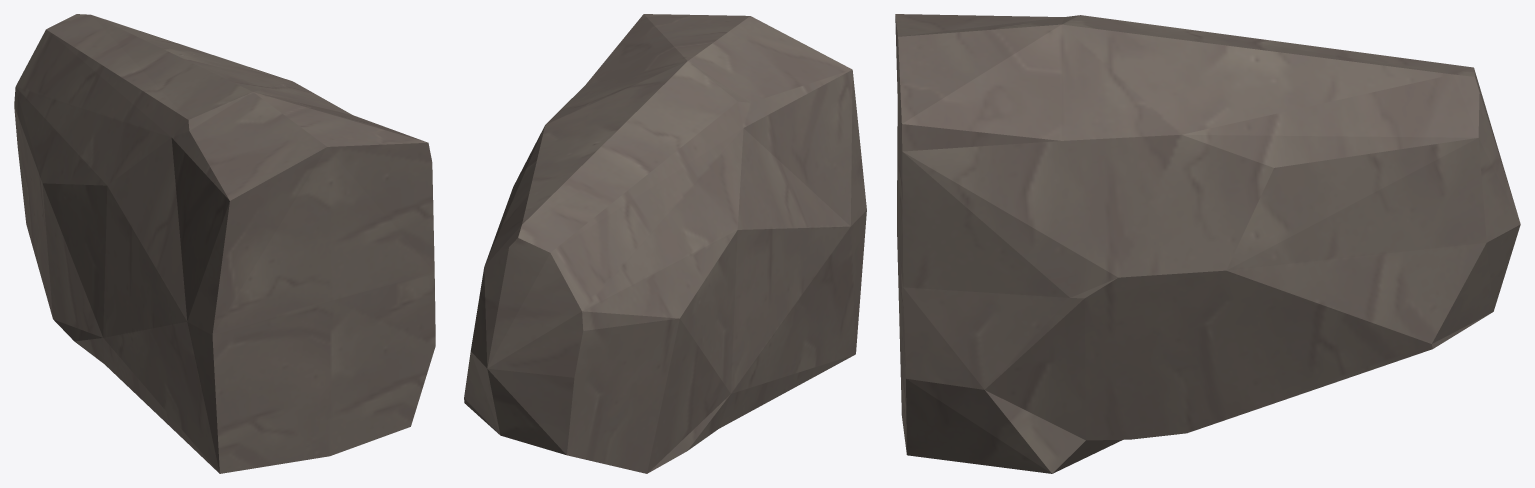
File: rock-03.obj
3 renders of one model, left to right at view 1: azimuth 30°, elevation 25°; view 2: azimuth 150°, elevation 25°; view 3: azimuth 270°, elevation 25°, orthographic. The views are drawn at different scales.
Parts seen in each view (by area): view 1: rock-03_Circle.032; view 2: rock-03_Circle.032; view 3: rock-03_Circle.032.
Part boxes in pixels (bbox=[...]): rock-03_Circle.032: bbox=[14, 14, 435, 473]; rock-03_Circle.032: bbox=[464, 14, 866, 473]; rock-03_Circle.032: bbox=[895, 14, 1520, 473].
Size of the model in its own units: 2.94 by 3.8 by 5.42.
